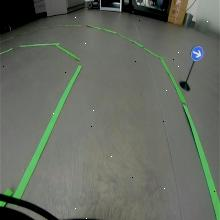right: (190, 44, 204, 61)
